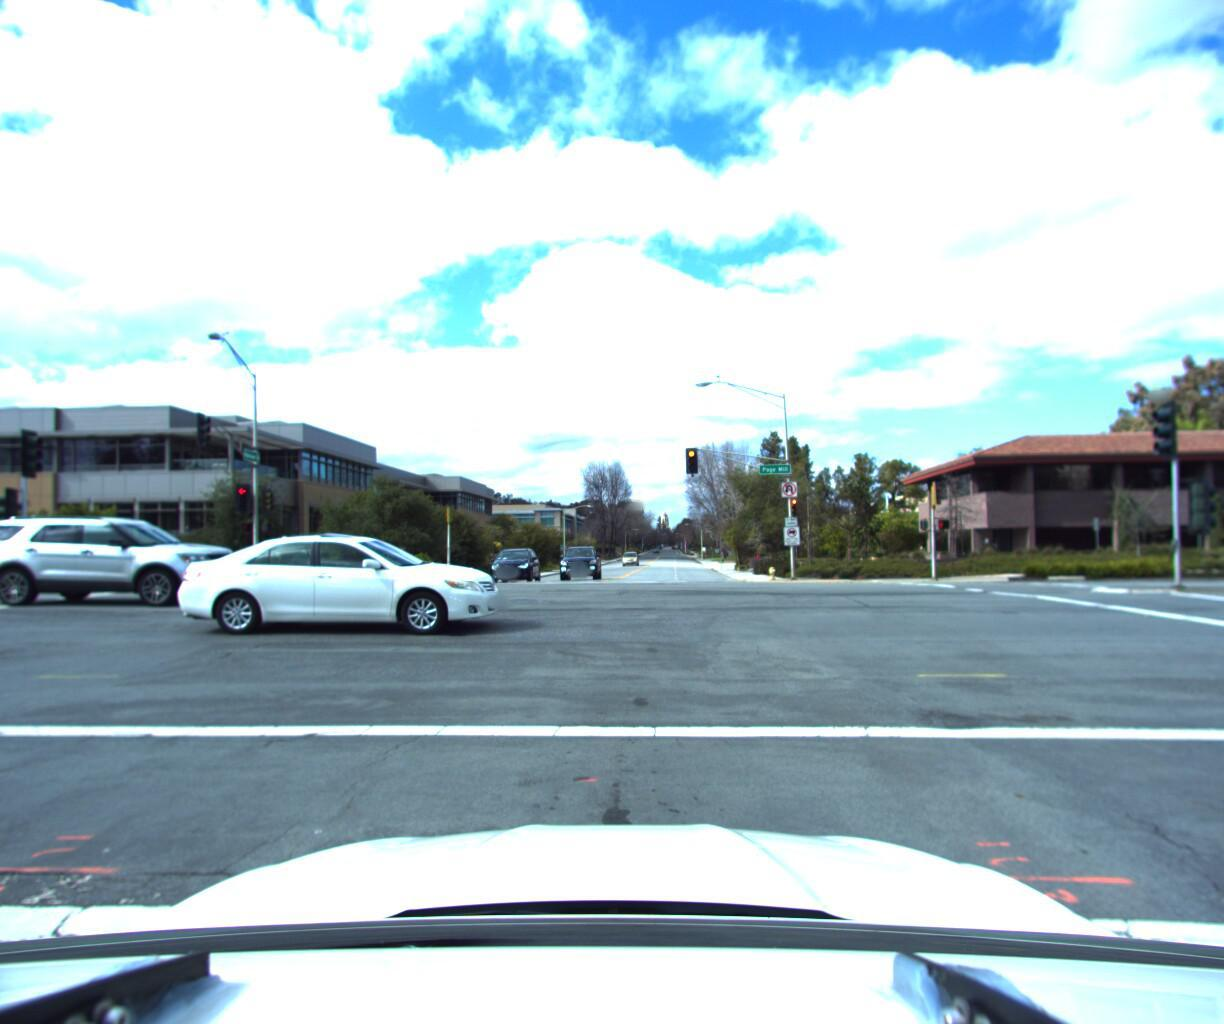car: (182, 531, 518, 638), (0, 519, 253, 609), (197, 544, 346, 590), (0, 532, 100, 592), (486, 548, 544, 587), (552, 549, 603, 585)
